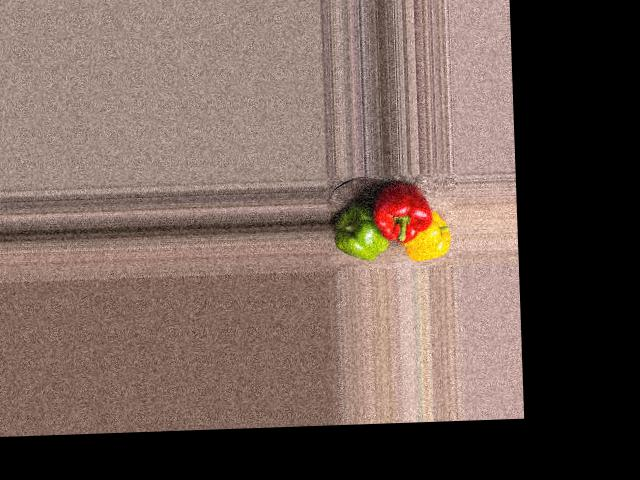bell_pepper: (403, 209, 451, 263)
